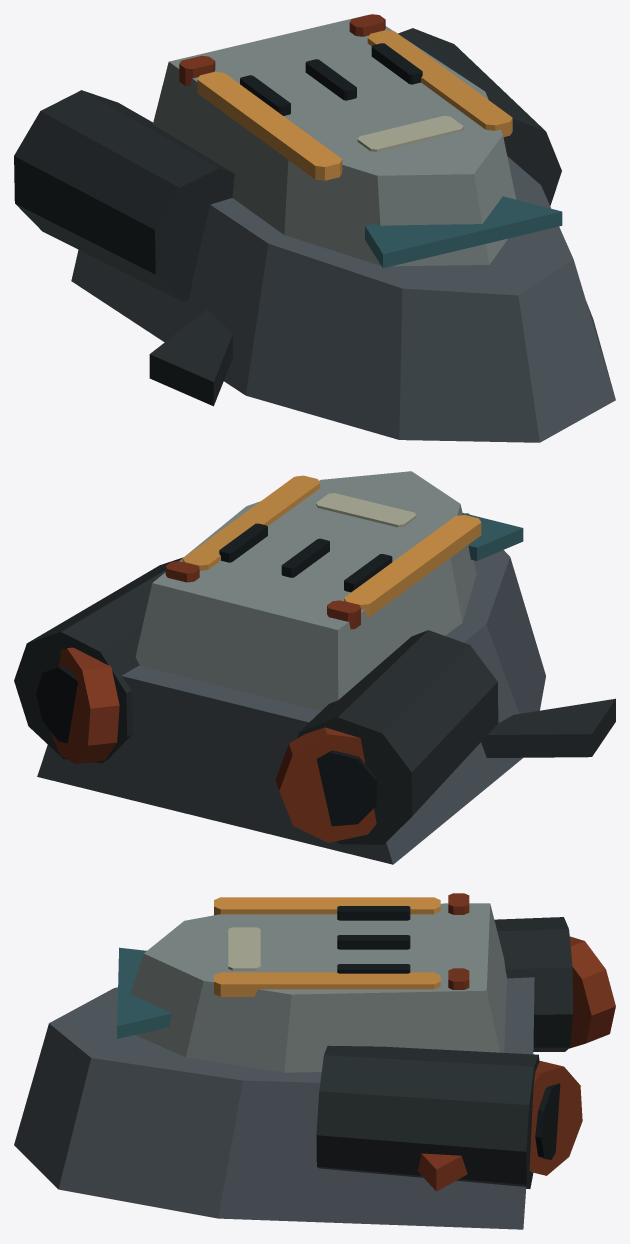
The model's file is ark_wreck.glb.
The picture shows the model from 3 angles, top to bottom: view 1: azimuth 30°, elevation 25°; view 2: azimuth 150°, elevation 25°; view 3: azimuth 270°, elevation 25°; orthographic projection. The views are drawn at different scales.
Parts seen in each view (by area): view 1: ark_wreck; view 2: ark_wreck; view 3: ark_wreck.
Part boxes in pixels (x1,y1,x2,y2): ark_wreck: (14, 14, 615, 442); ark_wreck: (14, 471, 615, 864); ark_wreck: (14, 893, 615, 1229).
Bounding box in the file's own units: 2.51 × 1.11 × 2.98.
